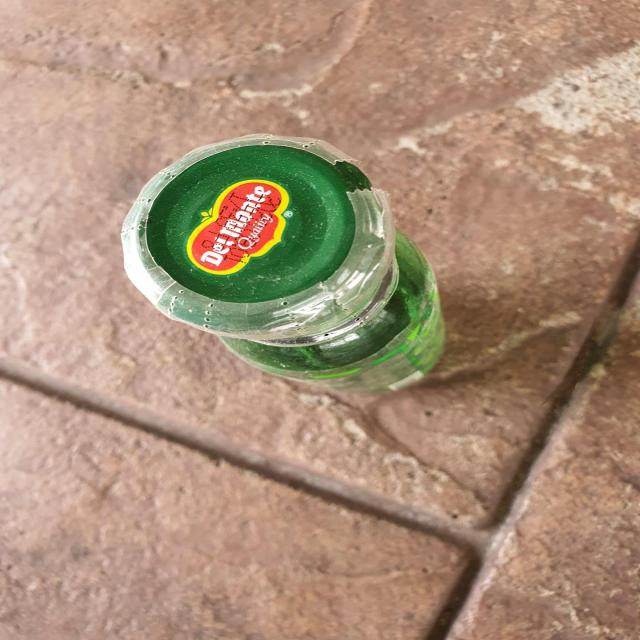glass: (121, 134, 445, 393)
